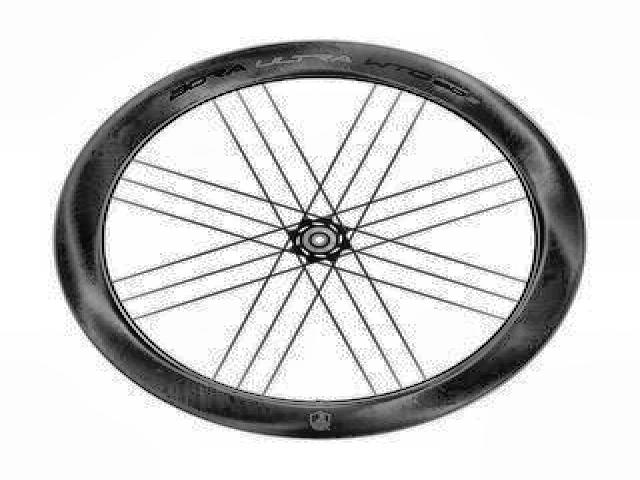wheel: (44, 36, 593, 446)
